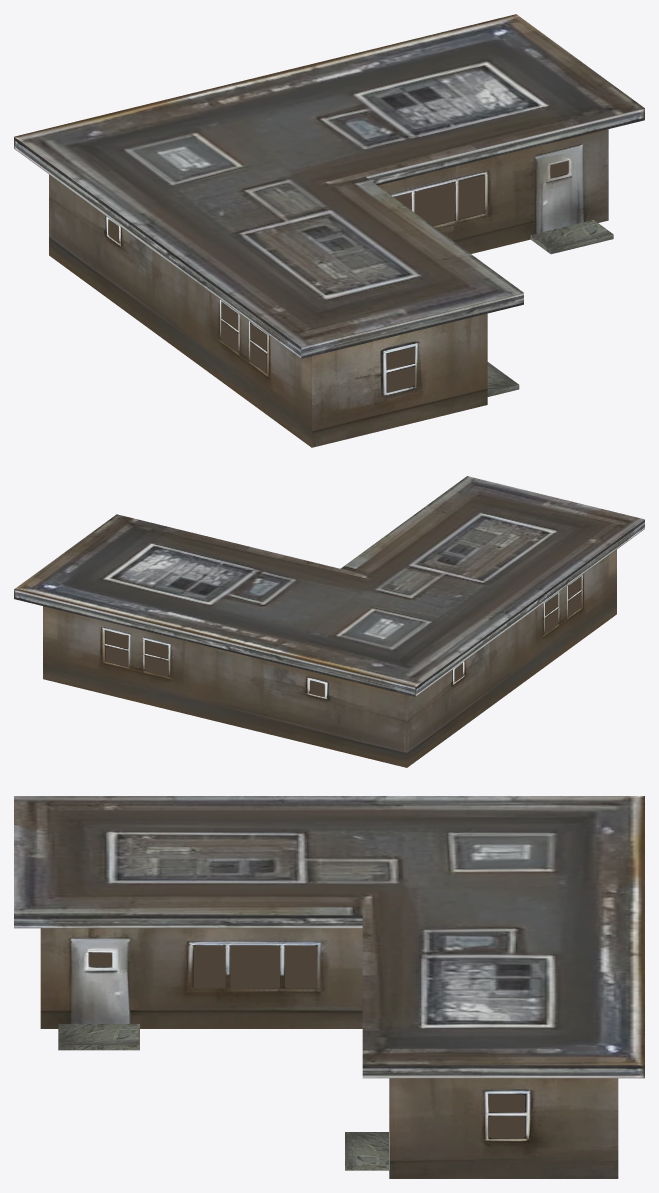
File: 2civliving_hdtex.glb
3 views of the same model, one above another, from view 1: azimuth 30°, elevation 25°; view 2: azimuth 150°, elevation 25°; view 3: azimuth 270°, elevation 25° (orthographic). The views are drawn at different scales.
Visible parts, largest first — view 1: Box02, LitWin_2CivLiving; view 2: Box02, LitWin_2CivLiving; view 3: Box02, LitWin_2CivLiving.
Part boxes in pixels (x1,y1,x2,y2): Box02: [14, 14, 644, 447]; LitWin_2CivLiving: [108, 161, 568, 391]; Box02: [14, 476, 644, 767]; LitWin_2CivLiving: [105, 577, 580, 696]; Box02: [14, 796, 644, 1178]; LitWin_2CivLiving: [89, 945, 525, 1138].
Size of the model in its own units: 14.11 by 3.09 by 13.98.
Materials: 1 (1 with a texture image).
